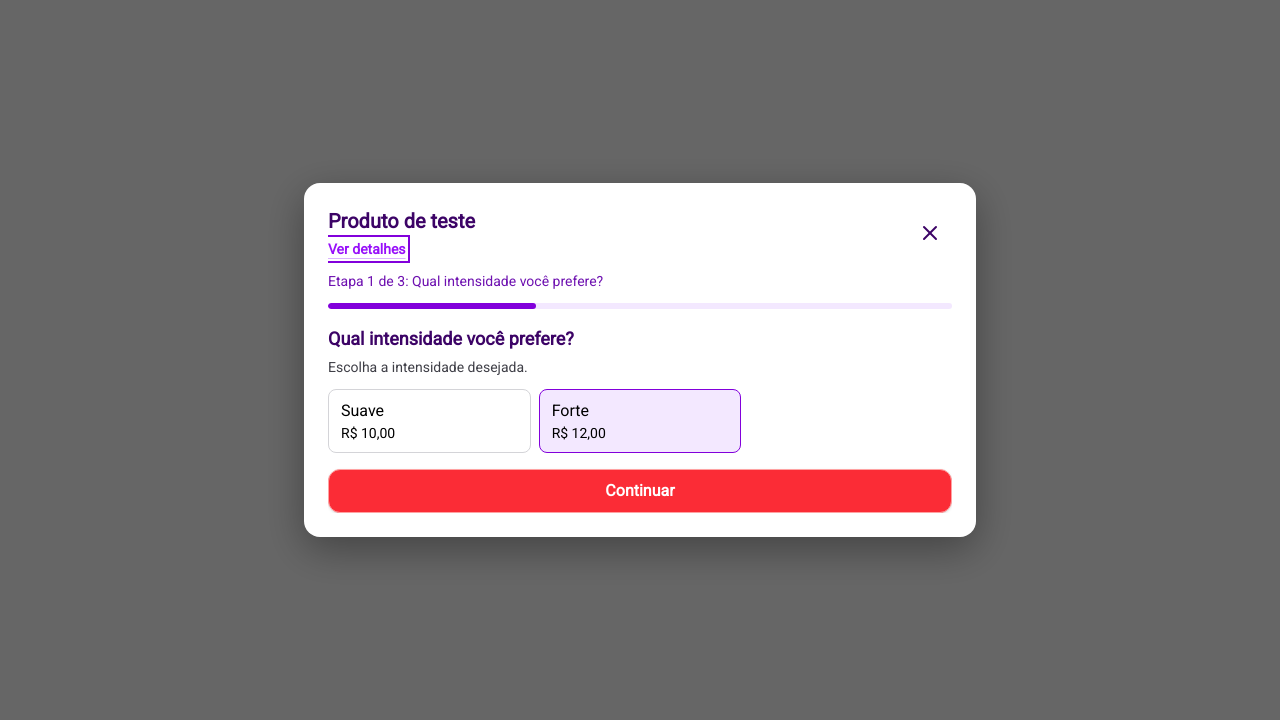
QuickAddDialog › should render an injected option step
Click the button "Continuar": x=640, y=491 [328,469,952,513]
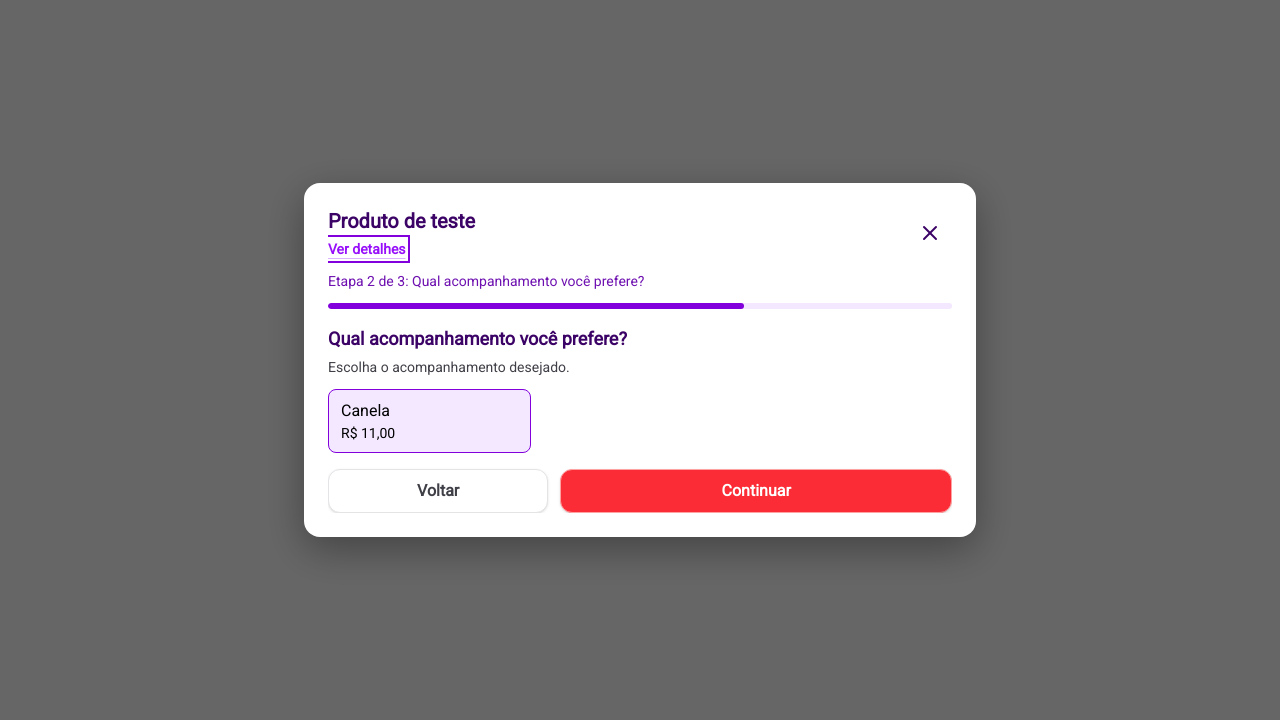
Now the text "Qual acompanhamento você prefere?" is shown, box [412,273,644,289]
